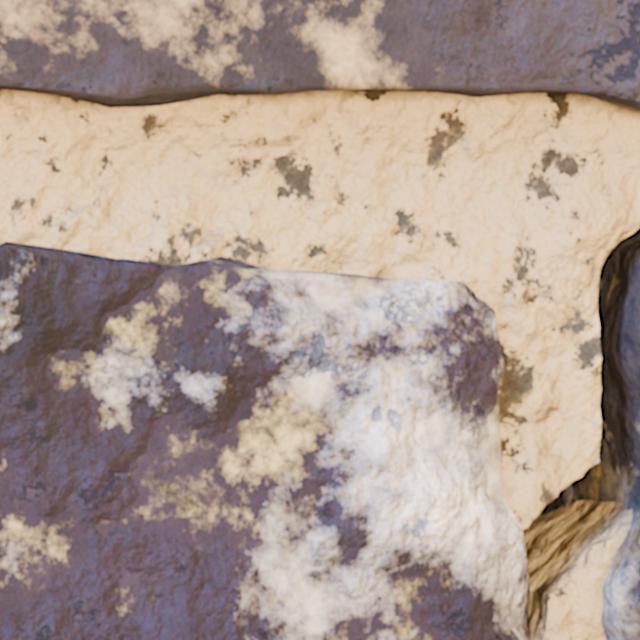crack: (0, 220, 639, 639), (0, 0, 639, 108)
